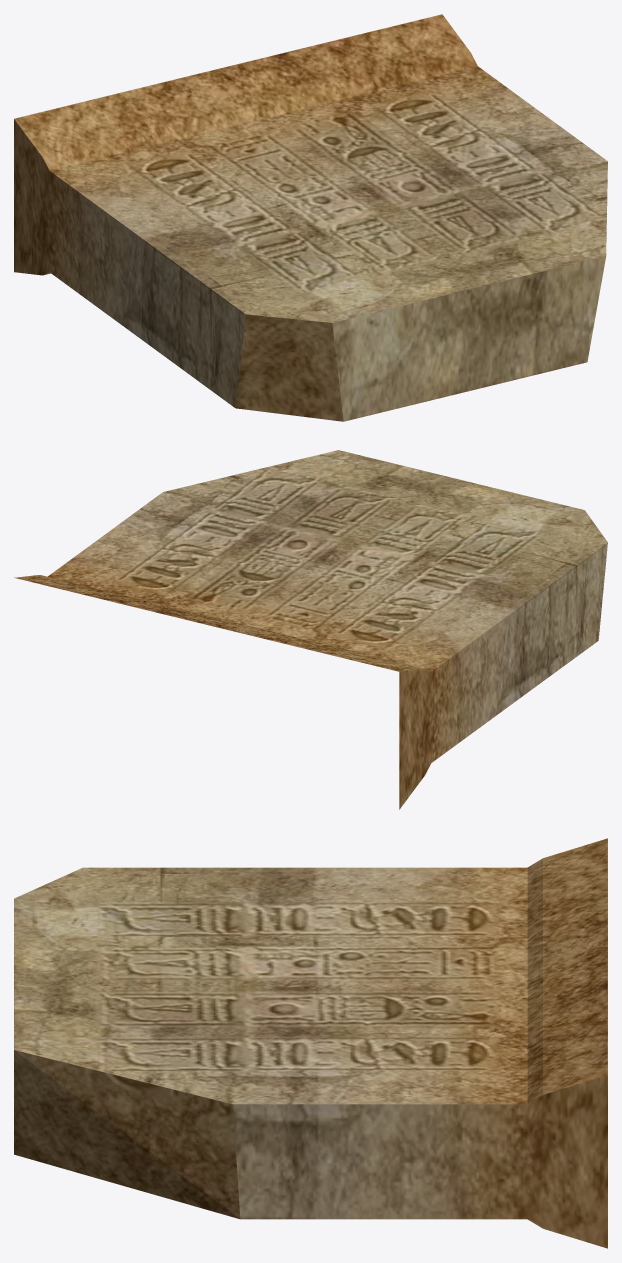
The picture shows the model from 3 angles, top to bottom: view 1: azimuth 30°, elevation 25°; view 2: azimuth 150°, elevation 25°; view 3: azimuth 270°, elevation 25°; orthographic projection. The views are drawn at different scales.
Visible parts, largest first — view 1: model_Object20; view 2: model_Object20; view 3: model_Object20.
Boxes of the visible parts, left/top/right/bottom form: model_Object20: left=14, top=14, right=607, bottom=421; model_Object20: left=14, top=450, right=607, bottom=809; model_Object20: left=14, top=838, right=607, bottom=1248.
Bounding box in the file's own units: 0.9581 × 0.328 × 1.02.
1 material, 1 textured.
